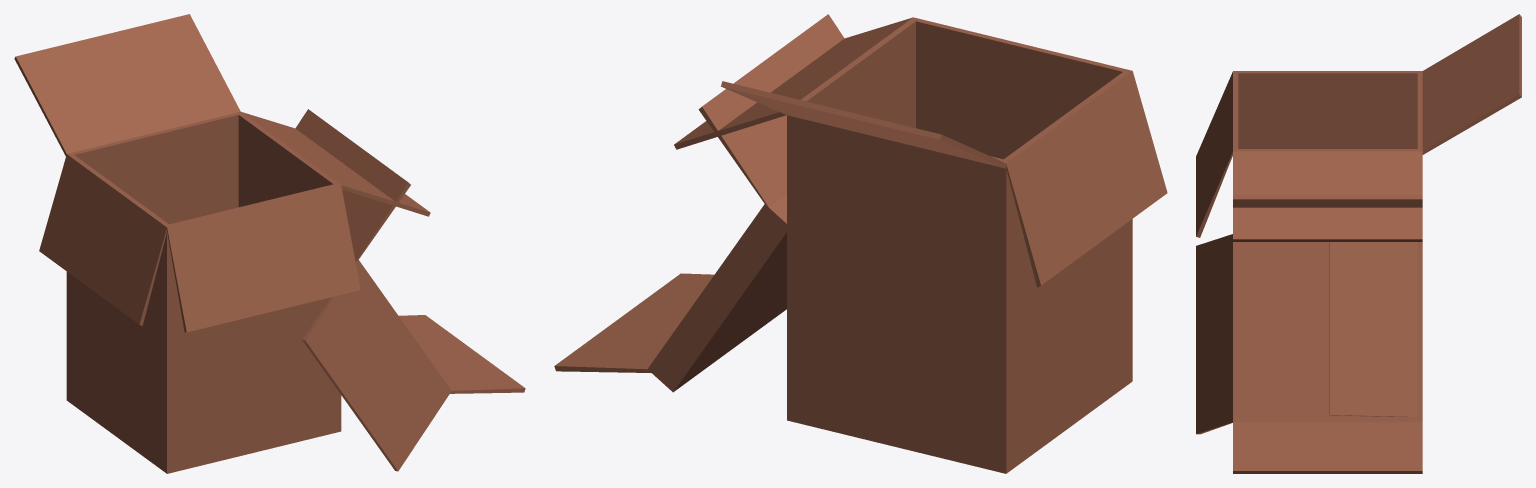
The model's file is cajas.fbx.
The picture shows the model from 3 angles, left to right: view 1: azimuth 30°, elevation 25°; view 2: azimuth 150°, elevation 25°; view 3: azimuth 270°, elevation 25°; orthographic projection. The views are drawn at different scales.
Parts seen in each view (by area): view 1: Cube.001, Cube.002; view 2: Cube.001, Cube.002; view 3: Cube.002, Cube.001.
Part boxes in pixels (x1,y1,x2,y2): Cube.001: (14, 14, 430, 473); Cube.002: (295, 109, 525, 471); Cube.001: (674, 17, 1167, 473); Cube.002: (554, 14, 844, 392); Cube.002: (1196, 195, 1422, 473); Cube.001: (1196, 14, 1521, 241).
Size of the model in its own units: 1189 by 1007 by 920.
